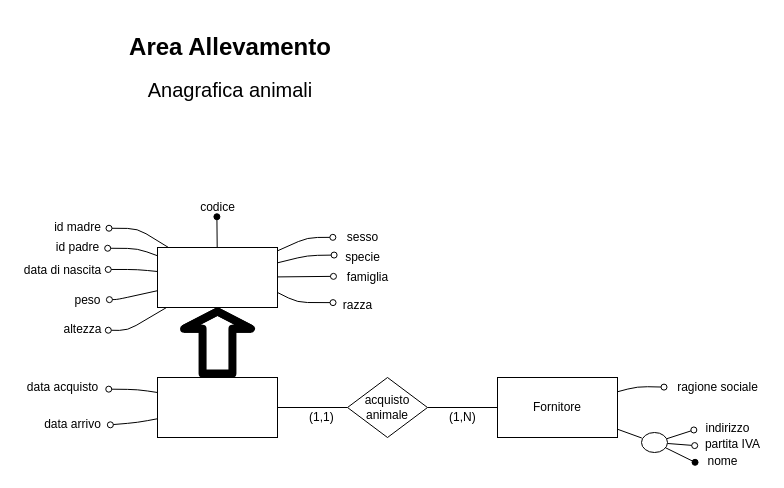
Image size: 784x488. Some labels were removed from this diagram. Here are the shapes that lost their labels. From the top down, the box of each, then its label:
(156, 246, 278, 308): Animale
(156, 376, 278, 438): Animale Acquisito
